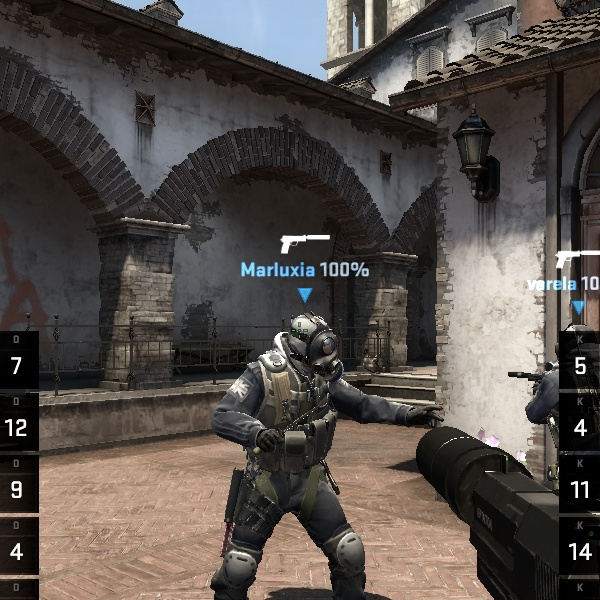ct_body: (216, 302, 372, 600)
ct_head: (273, 308, 347, 380), (548, 315, 597, 395)
